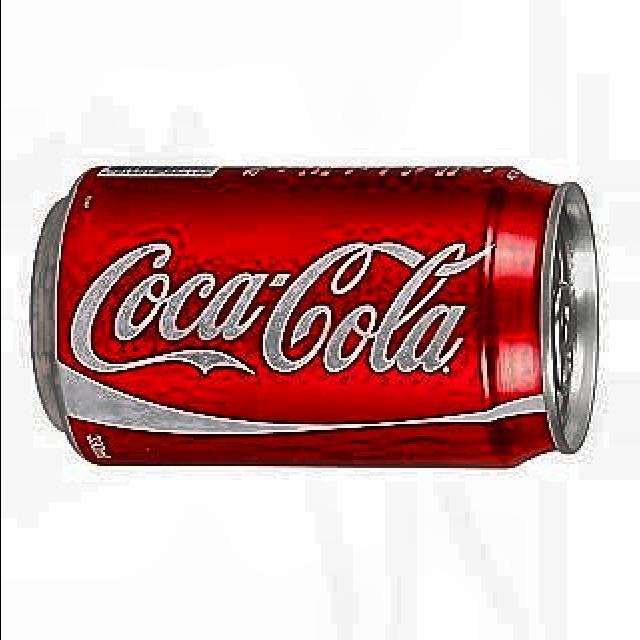litter: (24, 156, 606, 474)
